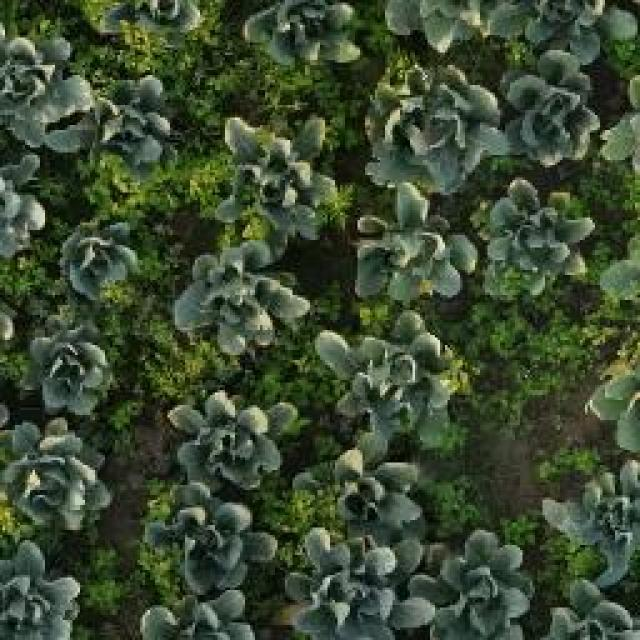cabbage: (314, 316, 462, 440), (284, 529, 430, 640), (351, 181, 481, 304), (174, 241, 309, 355), (0, 417, 117, 547), (411, 526, 536, 640), (487, 49, 606, 166), (479, 181, 601, 295), (293, 438, 427, 538), (373, 70, 485, 188), (130, 480, 242, 598), (75, 70, 186, 187), (220, 102, 330, 220), (8, 312, 118, 430), (166, 388, 296, 487), (1, 20, 89, 145), (238, 0, 362, 68), (59, 207, 145, 301), (0, 551, 79, 640)
